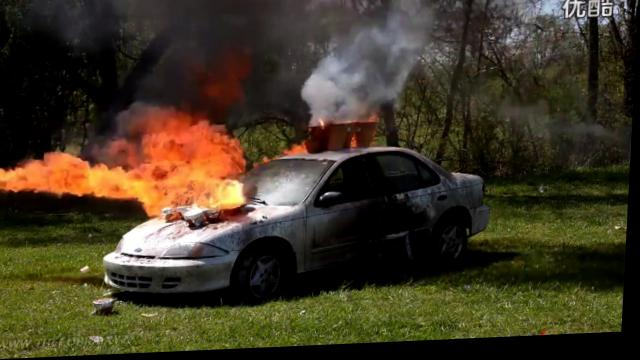fire: (143, 132, 182, 218), (177, 131, 219, 209), (215, 136, 245, 181), (44, 152, 67, 196), (66, 156, 90, 196), (216, 179, 246, 210), (21, 160, 47, 194), (89, 165, 114, 198), (129, 165, 148, 205), (111, 168, 130, 199), (0, 165, 22, 190), (289, 147, 308, 156)
